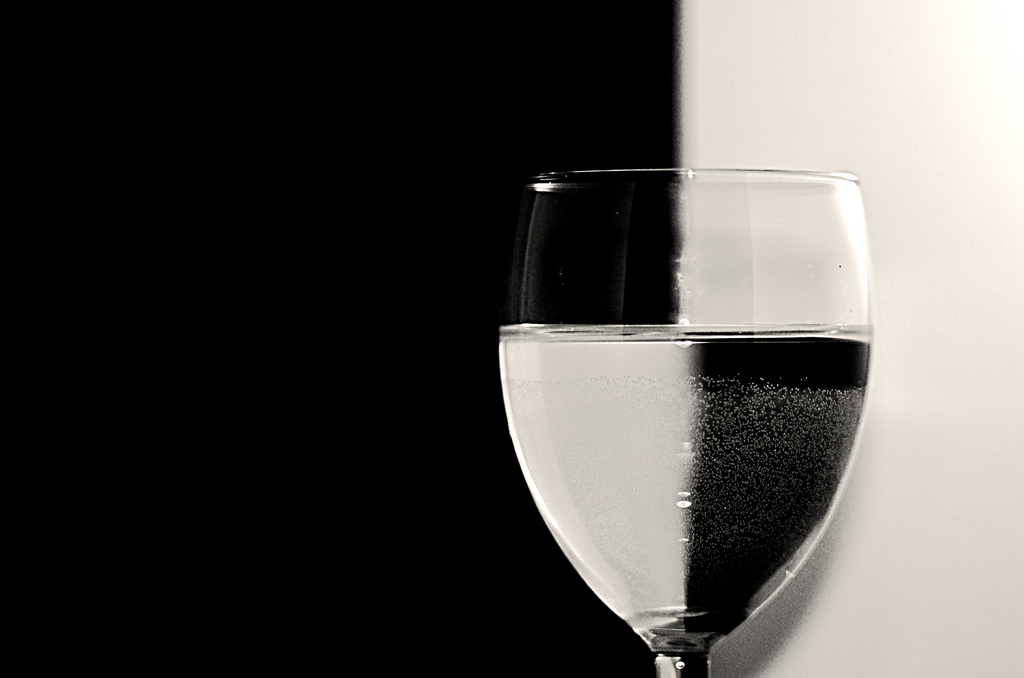glass of water: (520, 169, 875, 678)
